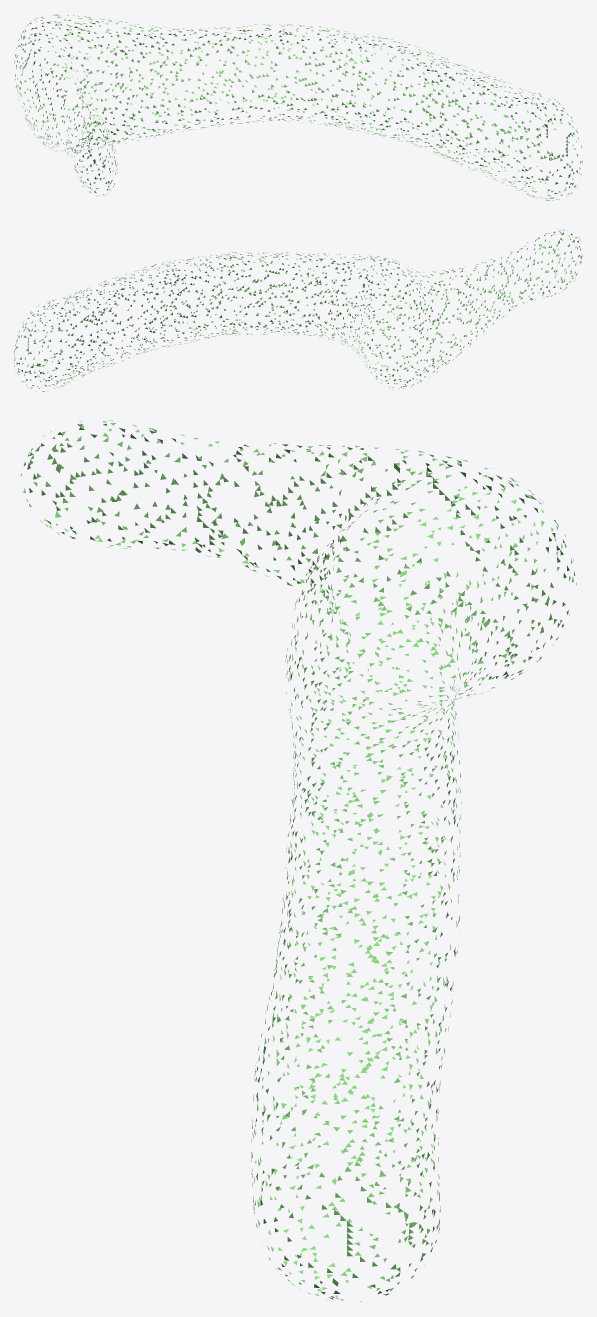
File: morph_016.glb
3 renders of one model, top to bottom at view 1: azimuth 30°, elevation 25°; view 2: azimuth 150°, elevation 25°; view 3: azimuth 270°, elevation 25°, orthographic. The views are drawn at different scales.
Bounding box in the file's own units: 126 × 56.65 × 63.33.
